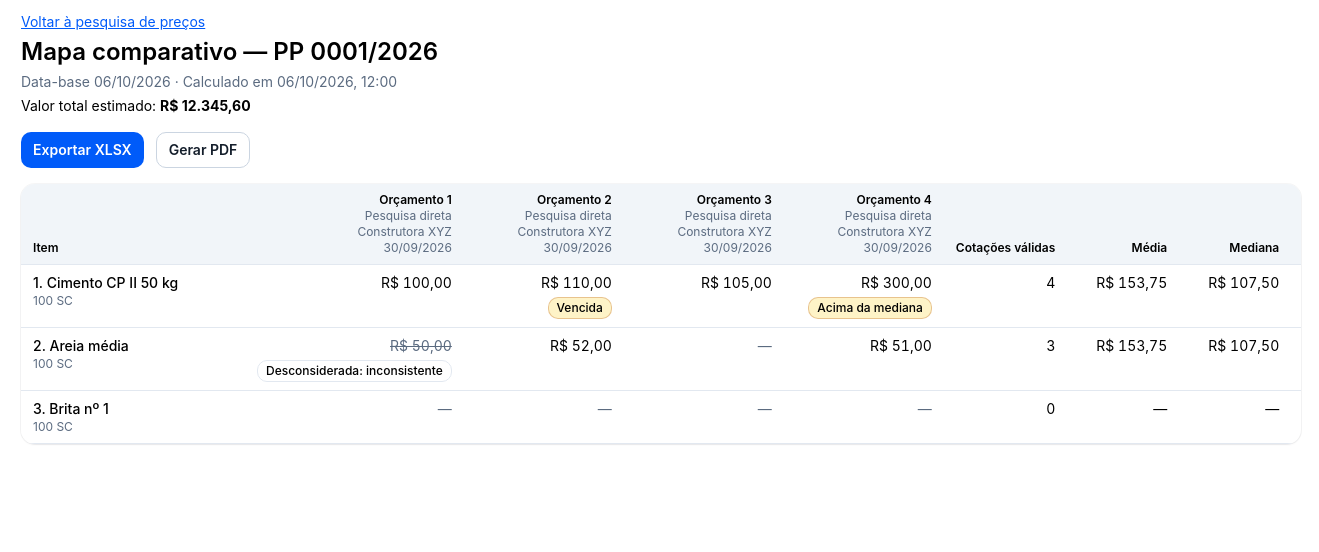
Test case: SCR-010 — Mapa comparativo (US-031) › [Validação] FA-01: acima do teto sugere gerar o PDF ou reduzir o recorte
The image size is (1319, 552).
Step 1. Click the button "Exportar XLSX" → [82, 150], box [21, 132, 144, 168]
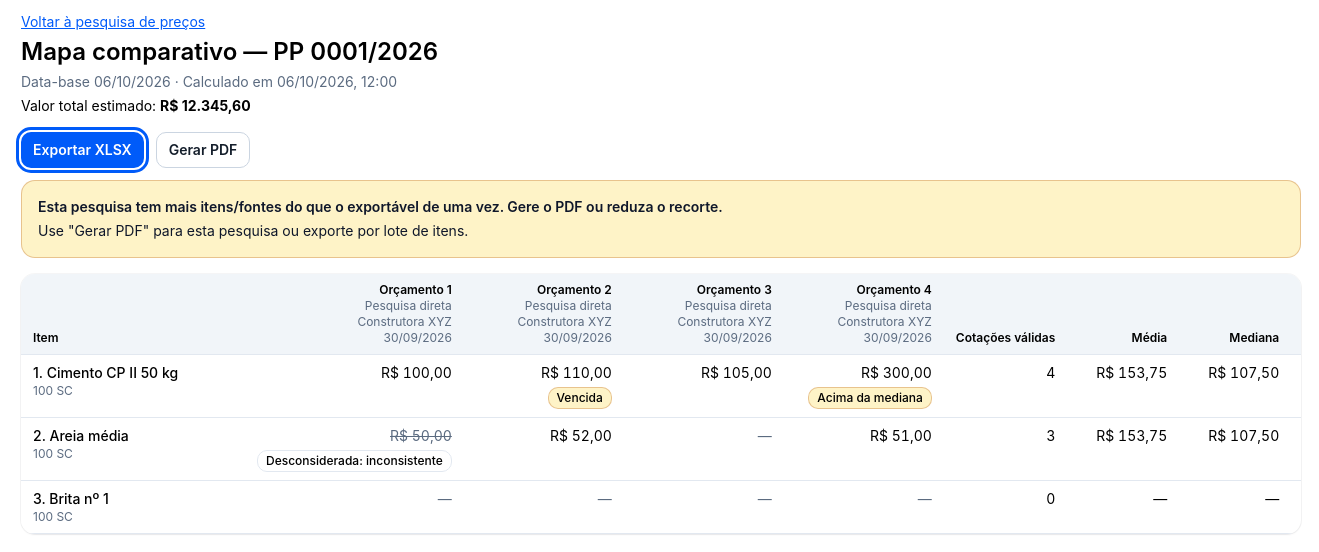
Expected: the text "Esta pesquisa tem mais itens/fontes do que o exportável de uma vez. Gere o PDF ou reduza o recorte." is shown, [38, 198, 723, 215]
Expected: the text "Use \"Gerar PDF\" para esta pesquisa" is shown, [38, 222, 468, 239]
